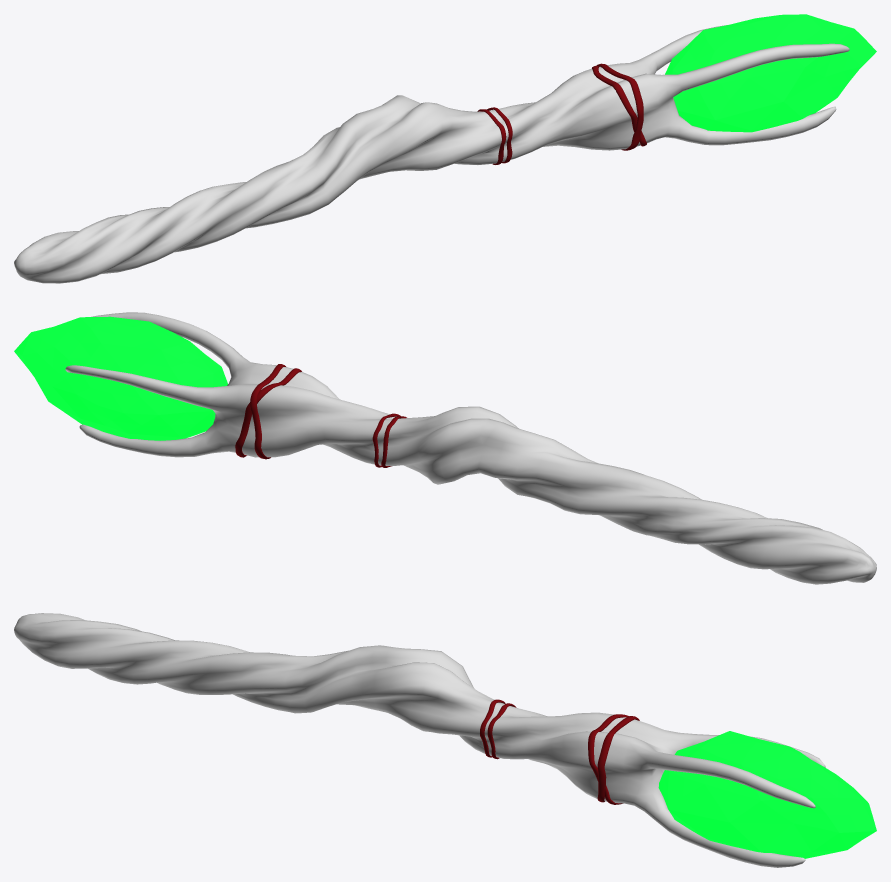
The model's file is Witchery_Wand(1).fbx.
3 views of the same model, one above another, from view 1: azimuth 30°, elevation 25°; view 2: azimuth 150°, elevation 25°; view 3: azimuth 330°, elevation 25° (orthographic).
Parts seen in each view (by area): view 1: Wand, GemStone, Bands_Big, Bands_Small; view 2: Wand, GemStone, Bands_Big, Bands_Small; view 3: Wand, GemStone, Bands_Big, Bands_Small.
Part boxes in pixels (x1,y1,x2,y2): Wand: (14, 25, 849, 283); GemStone: (665, 14, 876, 132); Bands_Big: (592, 63, 646, 150); Bands_Small: (477, 107, 512, 164); Wand: (65, 312, 876, 584); GemStone: (14, 316, 227, 440); Bands_Big: (235, 364, 301, 459); Bands_Small: (372, 413, 406, 467); Wand: (14, 613, 825, 867); GemStone: (658, 731, 876, 858); Bands_Big: (588, 714, 639, 804); Bands_Small: (480, 699, 516, 759).
Size of the model in its own units: 36.73 by 4.53 by 4.46.
